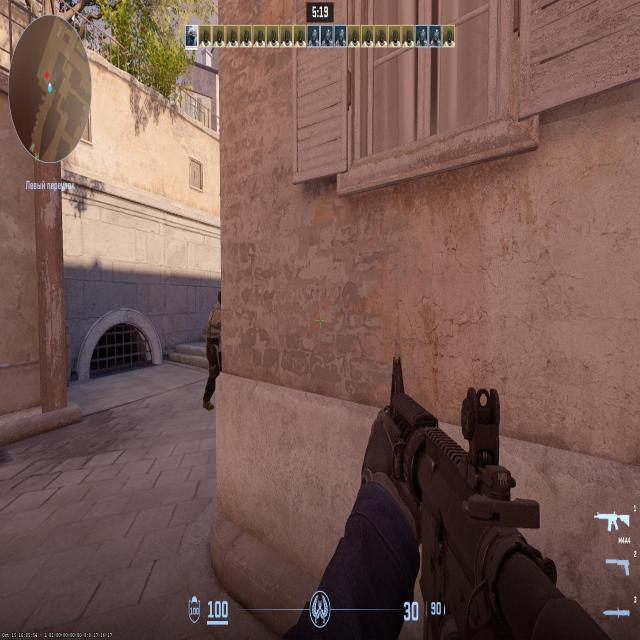T: (209, 293, 220, 396)
T_heat: (216, 298, 218, 317)
